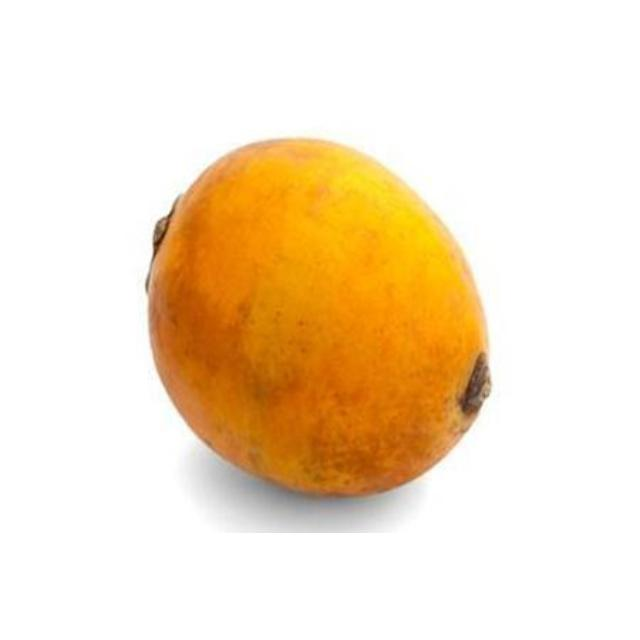good: (145, 138, 494, 501)
